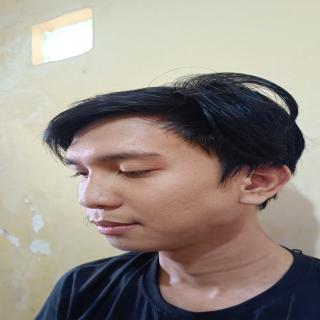Sedih: (58, 113, 242, 254)
